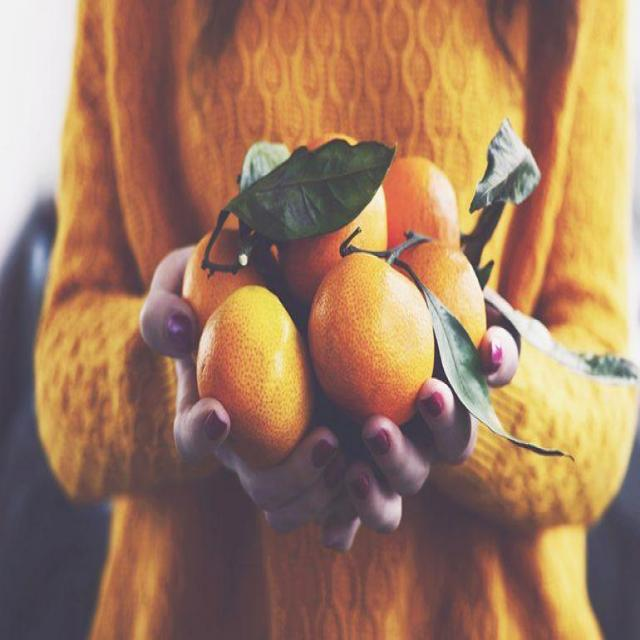10_tangerine: (193, 279, 312, 471), (309, 252, 436, 428), (277, 129, 390, 305), (392, 240, 488, 363), (182, 220, 278, 325)
